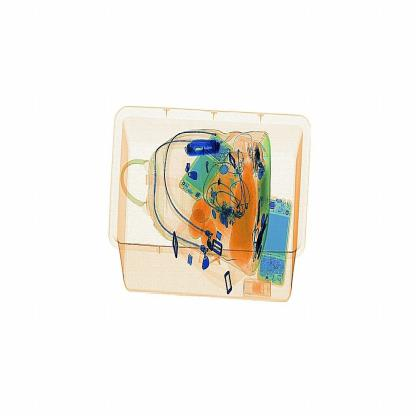scissors: (179, 134, 225, 162)
